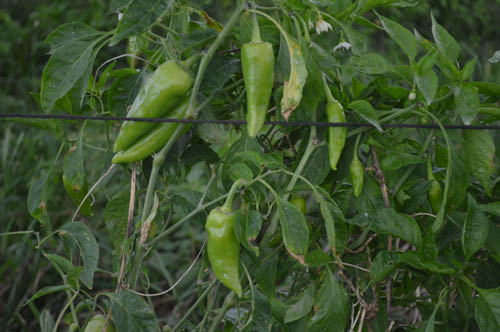ChiliPepper: (112, 62, 195, 140), (107, 98, 198, 165), (242, 43, 273, 138), (208, 207, 242, 292), (318, 106, 344, 173), (346, 163, 364, 193)
